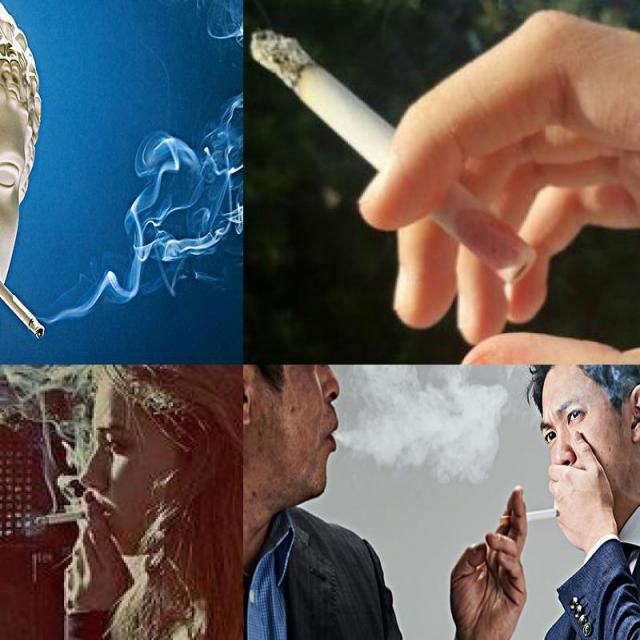smoke: (248, 26, 538, 282), (0, 264, 46, 341), (33, 507, 104, 527), (500, 508, 562, 527)
